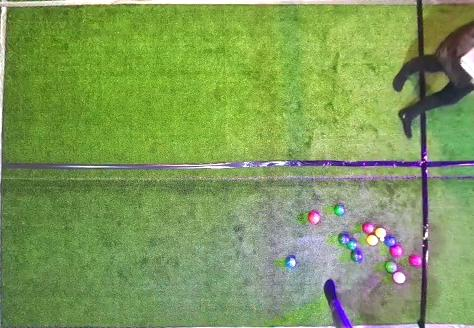blue: (385, 237, 396, 246), (286, 258, 296, 267)
green: (386, 261, 397, 273), (351, 251, 362, 261), (338, 234, 349, 244), (334, 205, 344, 215), (347, 240, 357, 249)
red: (393, 272, 406, 283), (308, 213, 320, 224), (390, 246, 402, 256), (409, 256, 421, 266), (363, 223, 374, 233)
vline: (420, 113, 473, 327), (0, 0, 10, 327), (416, 0, 473, 56), (420, 71, 473, 97)
white: (380, 237, 385, 241)
yellow: (375, 228, 386, 238), (368, 235, 378, 245)
